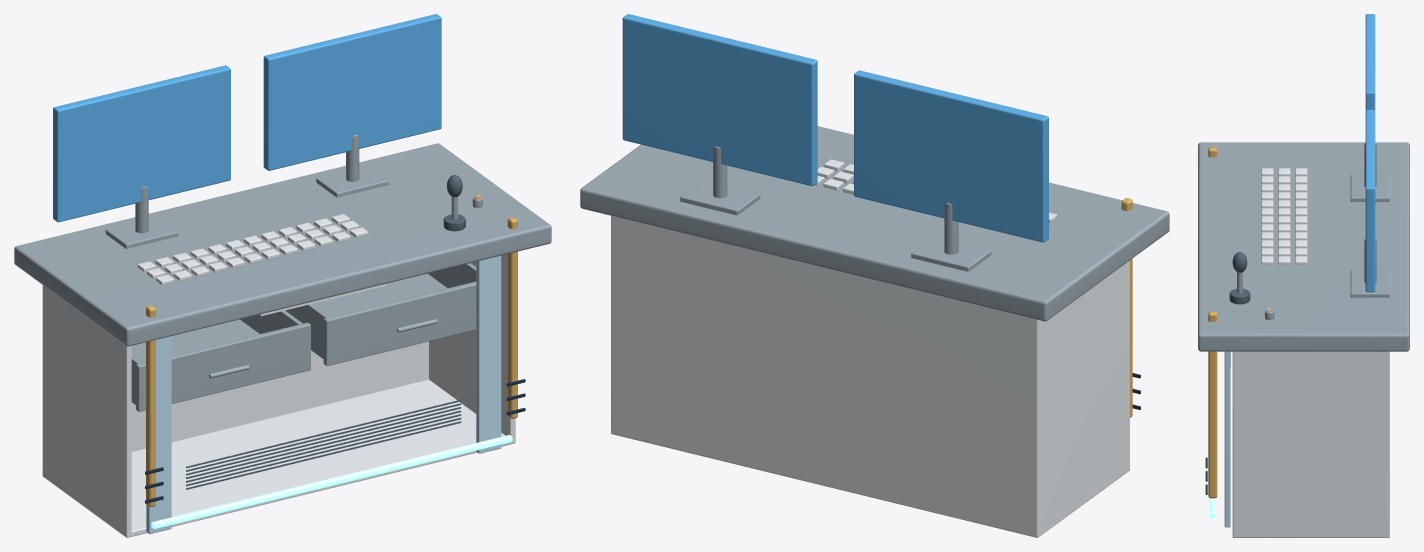
The model's file is mission_console.glb.
3 renders of one model, left to right at view 1: azimuth 30°, elevation 25°; view 2: azimuth 150°, elevation 25°; view 3: azimuth 270°, elevation 25°, orthographic. The views are drawn at different scales.
Parts seen in each view (by area): view 1: Worktop, Console_Base_Bottom, Monitor0.46_Housing, Monitor-0.46_Housing, Console_Base_Left, Console_Base_Rear, Console_Drawer0.41_Front, Console_Drawer-0.41_Front, Console_Side_Trim0.72, Console_Base_Right, Console_Side_Trim-0.72, Console_Luminous_Base (+16 smaller); view 2: Console_Base_Rear, Worktop, Monitor0.46_Housing, Monitor-0.46_Housing, Console_Base_Left, Console_Base_Bottom, Monitor_Foot-0.46, Monitor_Foot0.46, Console_Base_Right; view 3: Worktop, Console_Base_Right, Monitor0.46_Housing, Console_Side_Bumper_2, Console_Side_Trim0.72, Monitor-0.46_Housing, Monitor_Foot0.46, Monitor_Foot-0.46, Console_Base_Bottom, Console_Base_Rear, Joystick_Base.
Boxes of the visible parts, x1=… form: Worktop: x1=14, y1=143, x2=551, y2=346; Console_Base_Bottom: x1=42, y1=379, x2=515, y2=537; Monitor0.46_Housing: x1=263, y1=14, x2=441, y2=170; Monitor-0.46_Housing: x1=53, y1=65, x2=230, y2=222; Console_Base_Left: x1=42, y1=285, x2=131, y2=537; Console_Base_Rear: x1=42, y1=285, x2=428, y2=477; Console_Drawer0.41_Front: x1=323, y1=281, x2=476, y2=365; Console_Drawer-0.41_Front: x1=136, y1=322, x2=310, y2=411; Console_Side_Trim0.72: x1=476, y1=255, x2=501, y2=453; Console_Base_Right: x1=429, y1=254, x2=515, y2=443; Console_Side_Trim-0.72: x1=146, y1=336, x2=171, y2=534; Console_Luminous_Base: x1=151, y1=435, x2=512, y2=528; Console_Base_Rear: x1=611, y1=216, x2=1039, y2=536; Worktop: x1=580, y1=126, x2=1169, y2=321; Monitor0.46_Housing: x1=622, y1=14, x2=817, y2=186; Monitor-0.46_Housing: x1=854, y1=70, x2=1048, y2=242; Console_Base_Left: x1=1033, y1=260, x2=1129, y2=537; Console_Base_Bottom: x1=611, y1=429, x2=1129, y2=537; Monitor_Foot-0.46: x1=911, y1=236, x2=991, y2=271; Monitor_Foot0.46: x1=680, y1=180, x2=760, y2=215; Console_Base_Right: x1=611, y1=216, x2=615, y2=433; Worktop: x1=1198, y1=142, x2=1409, y2=351; Console_Base_Right: x1=1232, y1=351, x2=1389, y2=537; Monitor0.46_Housing: x1=1365, y1=109, x2=1375, y2=292; Console_Side_Bumper_2: x1=1208, y1=311, x2=1217, y2=498; Console_Side_Trim0.72: x1=1224, y1=351, x2=1230, y2=527; Monitor-0.46_Housing: x1=1365, y1=14, x2=1375, y2=110; Monitor_Foot0.46: x1=1350, y1=270, x2=1389, y2=297; Monitor_Foot-0.46: x1=1350, y1=174, x2=1389, y2=201; Console_Base_Bottom: x1=1232, y1=534, x2=1389, y2=537; Console_Base_Rear: x1=1385, y1=351, x2=1388, y2=537; Joystick_Base: x1=1229, y1=288, x2=1250, y2=304.
Bounding box in the file's own units: 1.86 × 1.57 × 0.86.
Materials: 12 (3 with a texture image).
